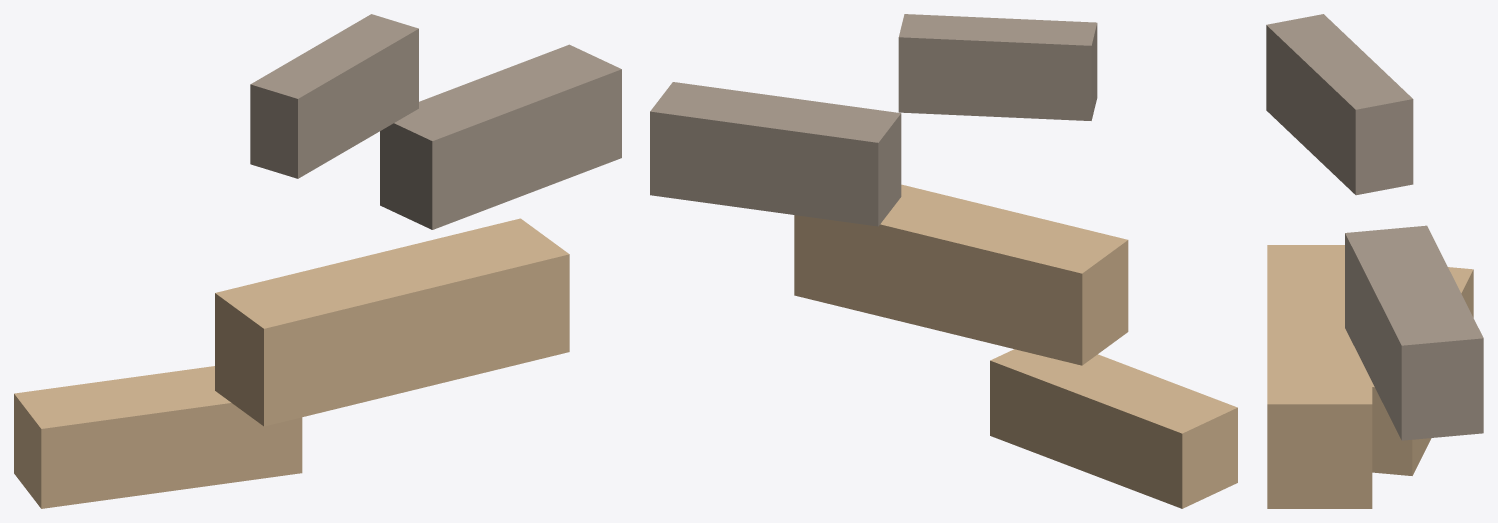
File: dust_smoke_plume.glb
The picture shows the model from 3 angles, left to right: view 1: azimuth 30°, elevation 25°; view 2: azimuth 150°, elevation 25°; view 3: azimuth 270°, elevation 25°; orthographic projection. The views are drawn at different scales.
Visible parts, largest first — view 1: dust_smoke_plume; view 2: dust_smoke_plume; view 3: dust_smoke_plume.
Part boxes in pixels (bbox=[...]): dust_smoke_plume: bbox=[14, 14, 621, 508]; dust_smoke_plume: bbox=[650, 14, 1237, 508]; dust_smoke_plume: bbox=[1266, 14, 1483, 508].
Bounding box in the file's own units: 1.39 × 0.9 × 0.415.
